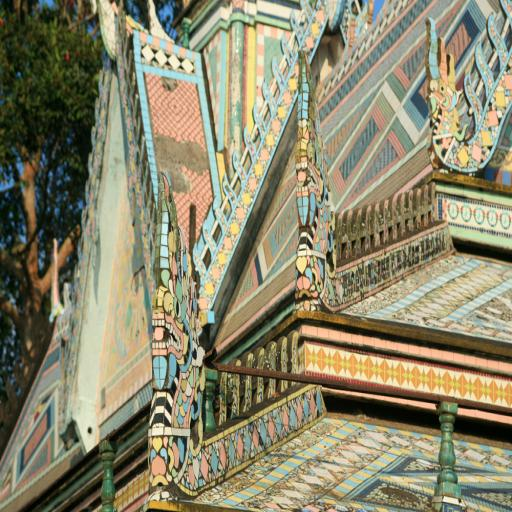lua: (40, 234, 69, 331), (484, 8, 510, 80), (473, 32, 500, 98), (460, 65, 485, 132), (285, 326, 306, 401), (184, 232, 212, 287), (255, 72, 280, 126), (210, 358, 230, 424), (274, 31, 298, 82), (208, 181, 228, 240), (220, 157, 240, 216), (227, 144, 248, 198), (253, 341, 267, 418), (228, 350, 244, 416), (268, 46, 287, 101), (237, 116, 255, 174), (284, 8, 306, 54), (266, 336, 280, 408), (330, 202, 346, 265), (341, 202, 357, 265), (199, 211, 217, 267), (248, 97, 265, 150), (352, 202, 367, 262), (360, 197, 374, 256), (278, 330, 290, 397), (244, 340, 254, 418), (387, 187, 400, 246), (294, 0, 317, 33), (426, 175, 439, 230), (379, 190, 390, 254), (418, 177, 429, 231), (370, 192, 380, 248), (403, 184, 413, 240), (396, 186, 406, 241), (413, 180, 423, 234)
ran: (124, 165, 229, 504), (281, 44, 345, 314), (411, 18, 490, 184)
